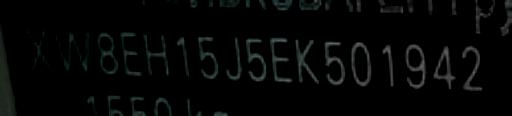letter: (55, 26, 91, 75), (343, 36, 377, 86), (18, 23, 52, 72), (142, 29, 174, 80), (456, 43, 488, 92), (196, 31, 226, 83), (374, 36, 404, 86), (400, 41, 432, 87), (116, 26, 144, 77), (266, 31, 292, 85), (293, 33, 319, 85), (92, 29, 118, 78), (319, 38, 345, 87), (430, 41, 456, 90), (242, 33, 266, 83), (222, 36, 244, 82), (172, 31, 192, 77)
